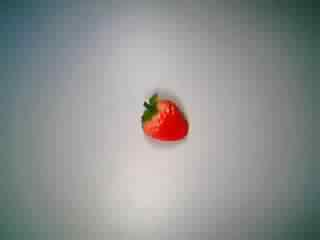strawberry: (130, 84, 196, 150)
